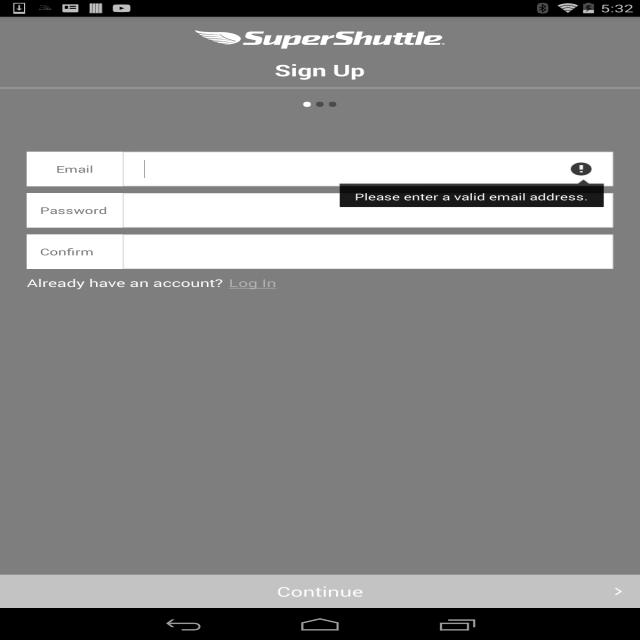Button: (228, 276, 322, 308)
EditText: (144, 160, 592, 178)
ImageView: (195, 30, 445, 49)
TextView: (144, 202, 592, 220), (144, 242, 592, 260), (27, 193, 122, 228), (27, 234, 122, 269), (27, 152, 122, 186), (27, 276, 224, 290), (274, 59, 364, 81), (277, 582, 363, 600), (608, 584, 629, 598), (300, 88, 314, 108), (326, 88, 339, 108), (314, 88, 326, 108)
